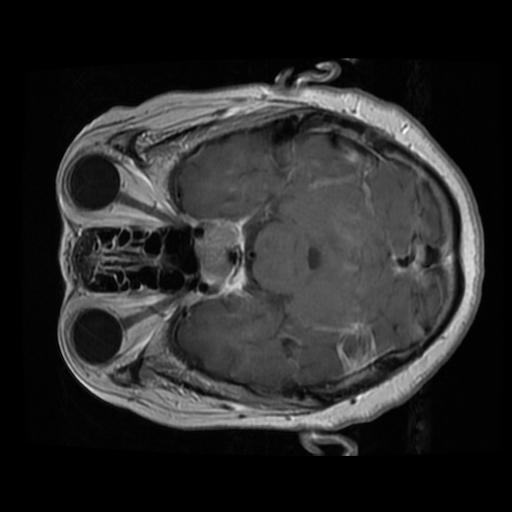pituitary tumour: (198, 222, 235, 285)
